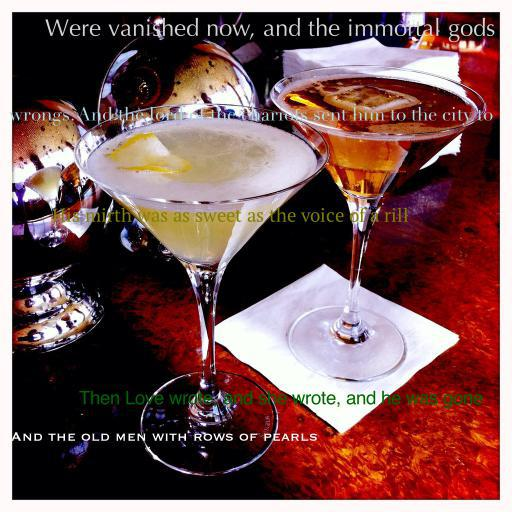Copperplate: (10, 432, 318, 441)
Didot: (9, 106, 493, 126)
Helvetica: (79, 390, 483, 409)
Optima: (45, 17, 495, 43)
PT Serif: (51, 207, 409, 222)
